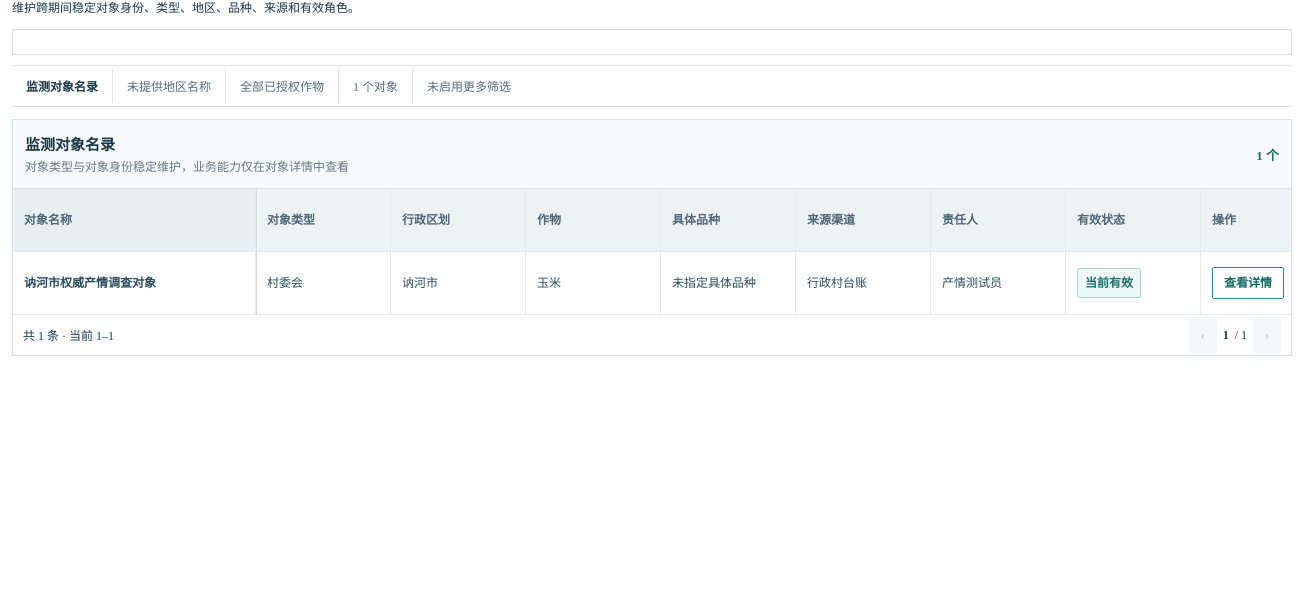
Test: updates with the server version and requeries the authoritative list
Expected: the column heading "讷河市权威产情调查对象" is shown, [13,252,256,315]
Click the button with aria-label "查看讷河市权威产情调查对象" at (1248, 283), box [1212,267,1284,299]
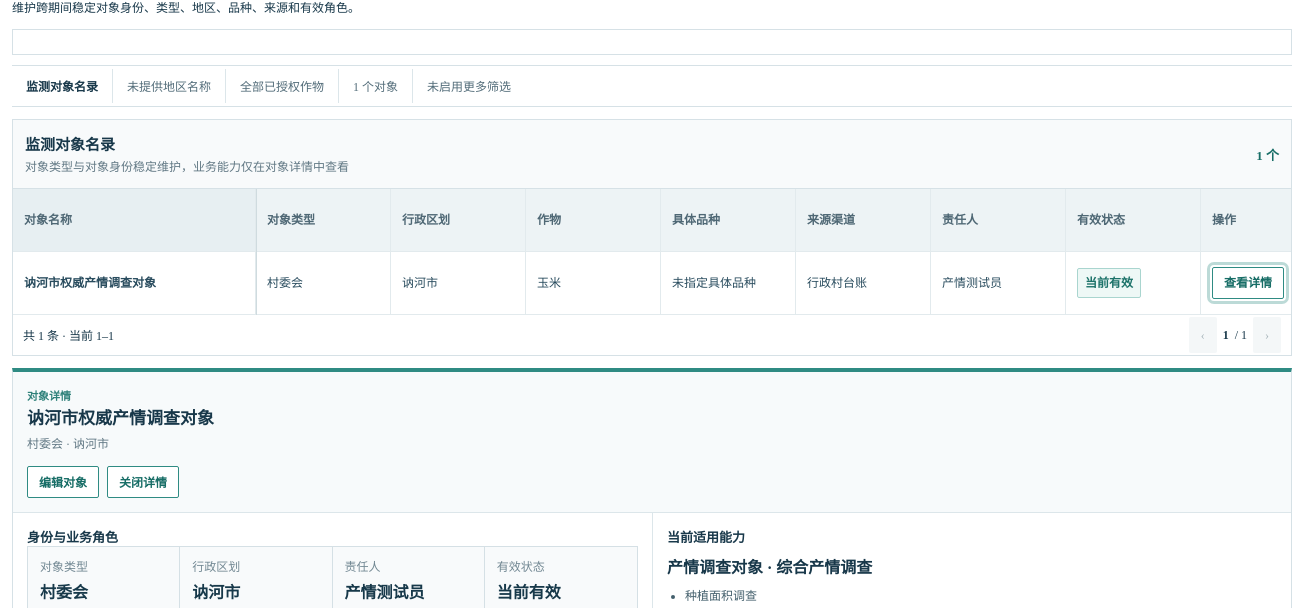
Click the button "编辑对象" at (63, 482), box [27,466,99,498]
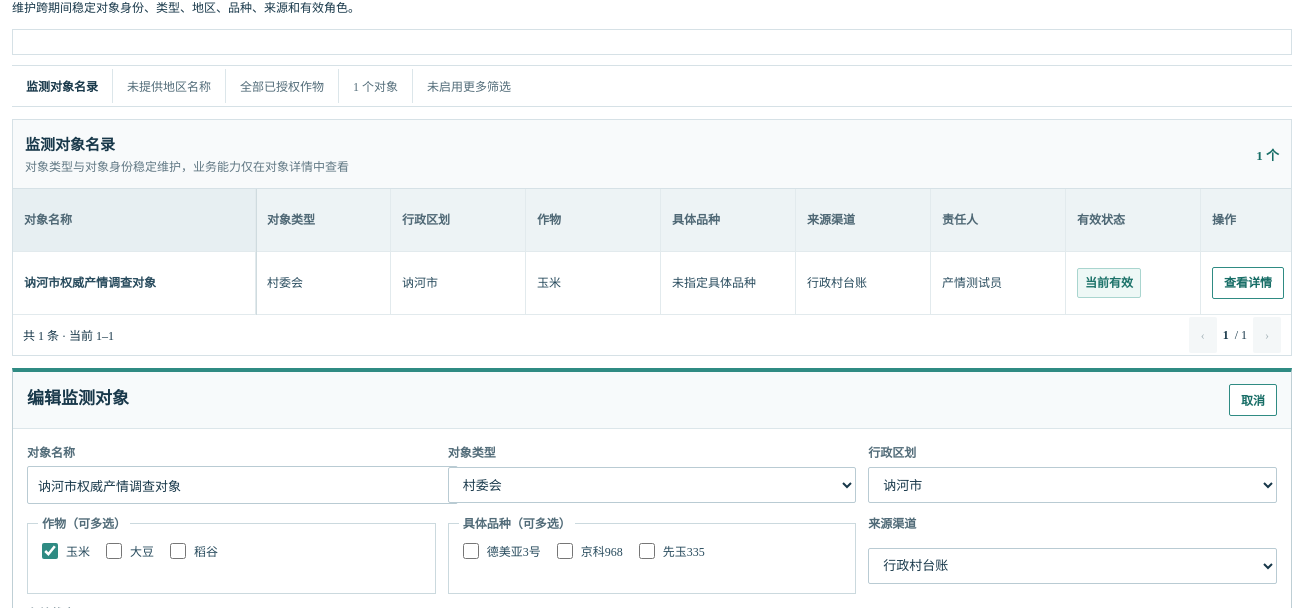
Replace the text in the field labelled "对象名称" with "讷河市更新后权威调查对象" at (242, 485), box [27,466,458,504]
(page scrolled)
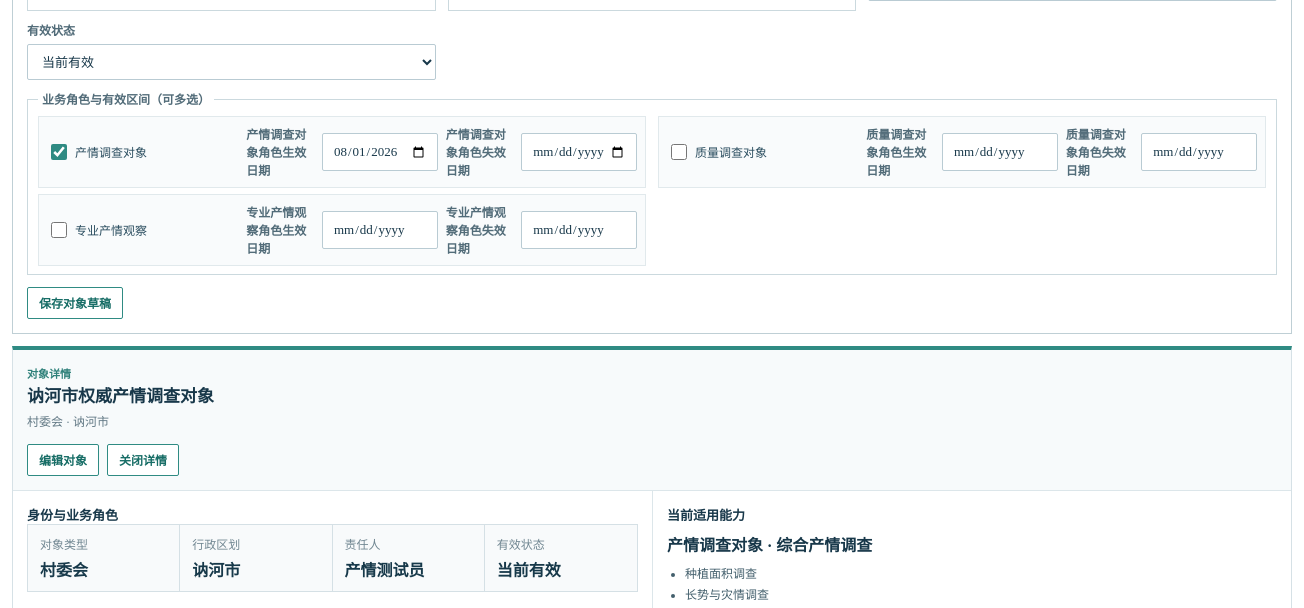
Click the button "保存对象草稿" at (75, 303), box [27,287,123,319]
(page scrolled)
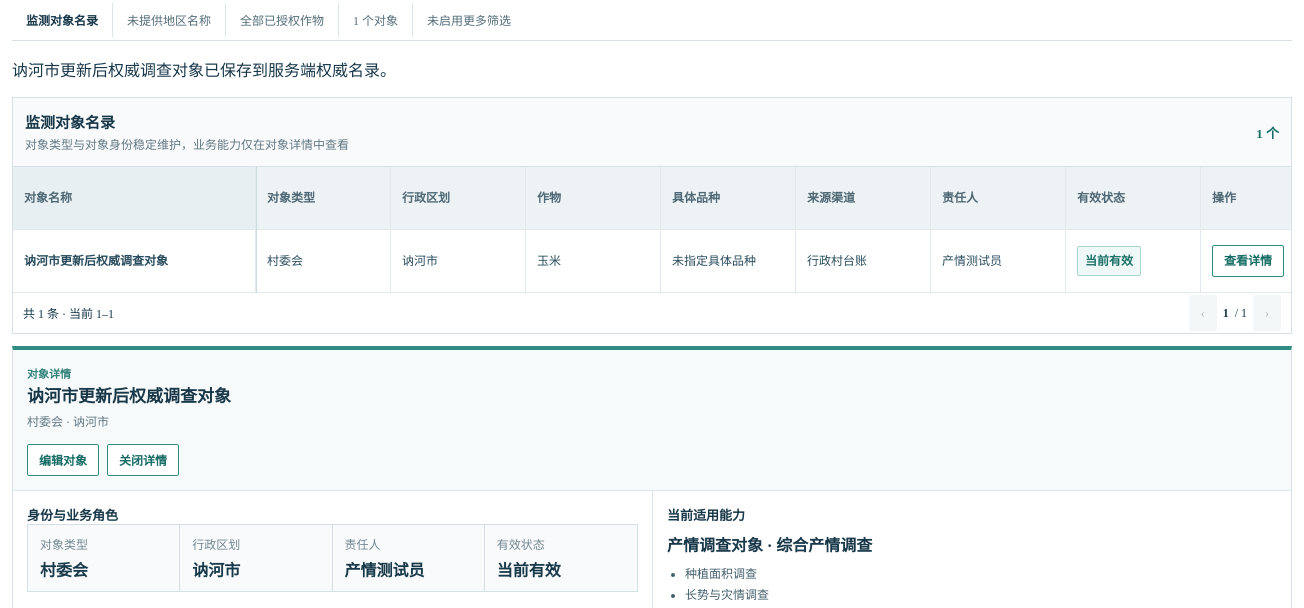
Now the column heading "讷河市更新后权威调查对象" is shown, box [13,230,256,293]
